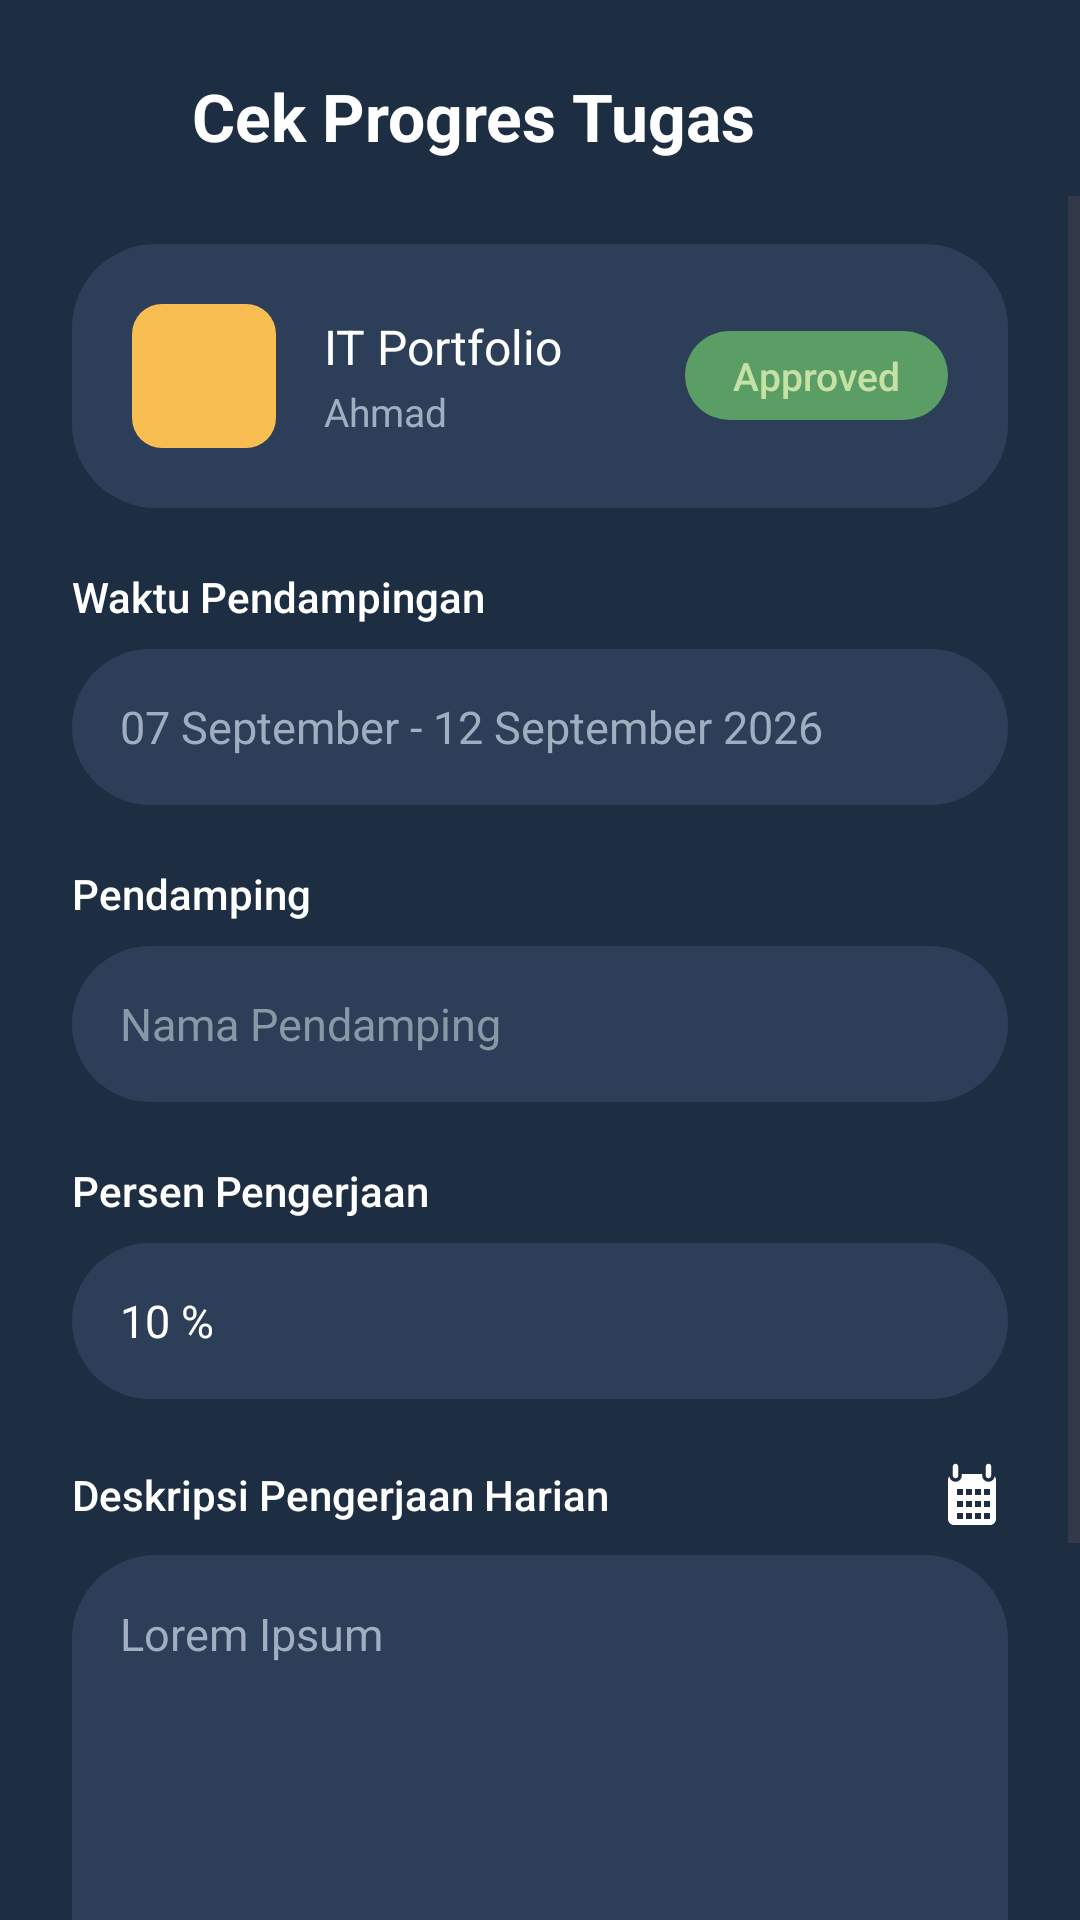

Icon click points for this 1080×1920 phone screenshot, format (x,y):
Calendar: (972,1494)
